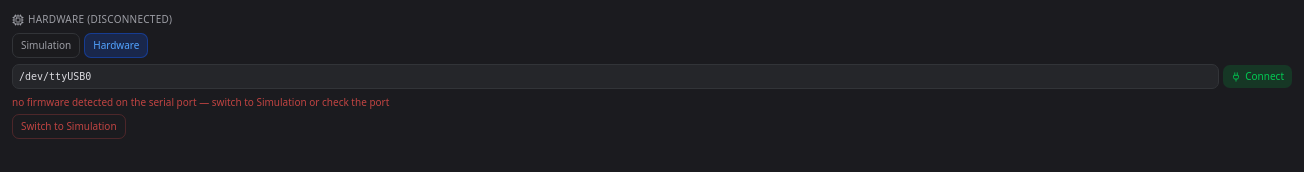
it: BackendSelector — Connect / Disconnect (spec) › no_firmware error shows the Switch to Simulation CTA which activates Simulation and clears the error
Click the button "Switch to Simulation". click: (69, 126)
box: [12,114,126,139]
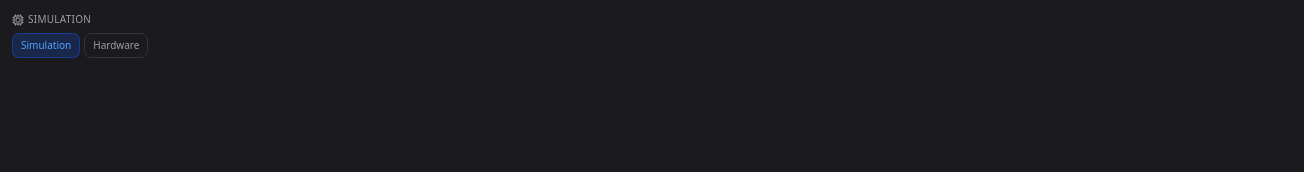
Check: the text labelled "port" is gone
